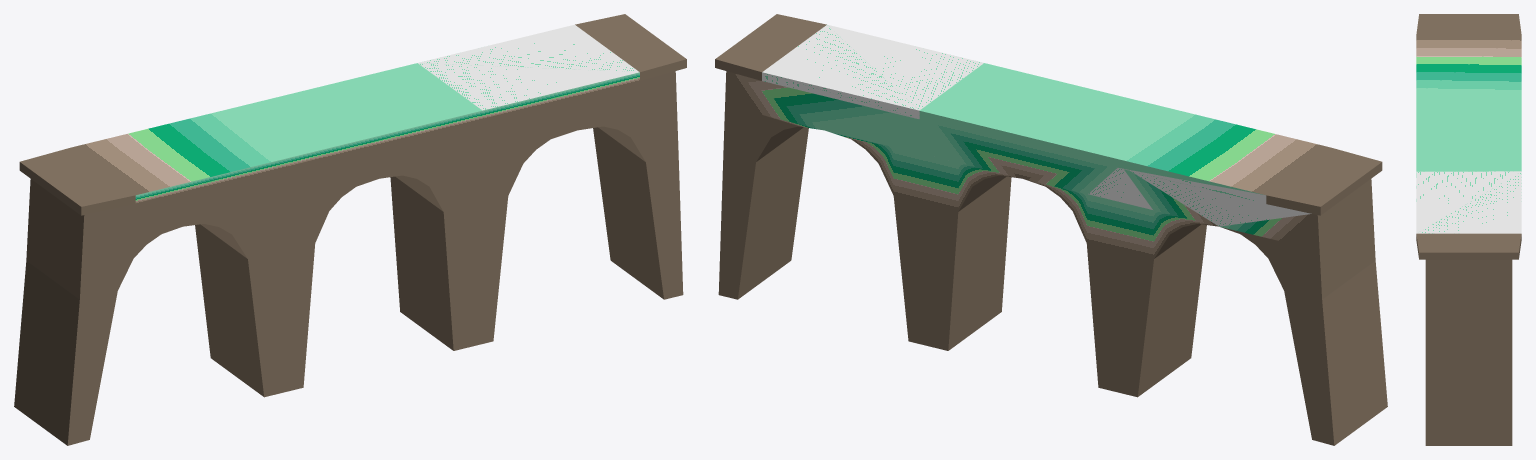
The model's file is buried_archs_low.fbx.
The picture shows the model from 3 angles, left to right: view 1: azimuth 30°, elevation 25°; view 2: azimuth 150°, elevation 25°; view 3: azimuth 270°, elevation 25°; orthographic projection. The views are drawn at different scales.
Visible parts, largest first — view 1: buried_archs_low; view 2: buried_archs_low; view 3: buried_archs_low.
Part boxes in pixels (x1,y1,x2,y2): buried_archs_low: (14,14,686,445); buried_archs_low: (715,14,1387,445); buried_archs_low: (1416,14,1521,445).
Size of the model in its own units: 108 by 19.8 by 40.21.
